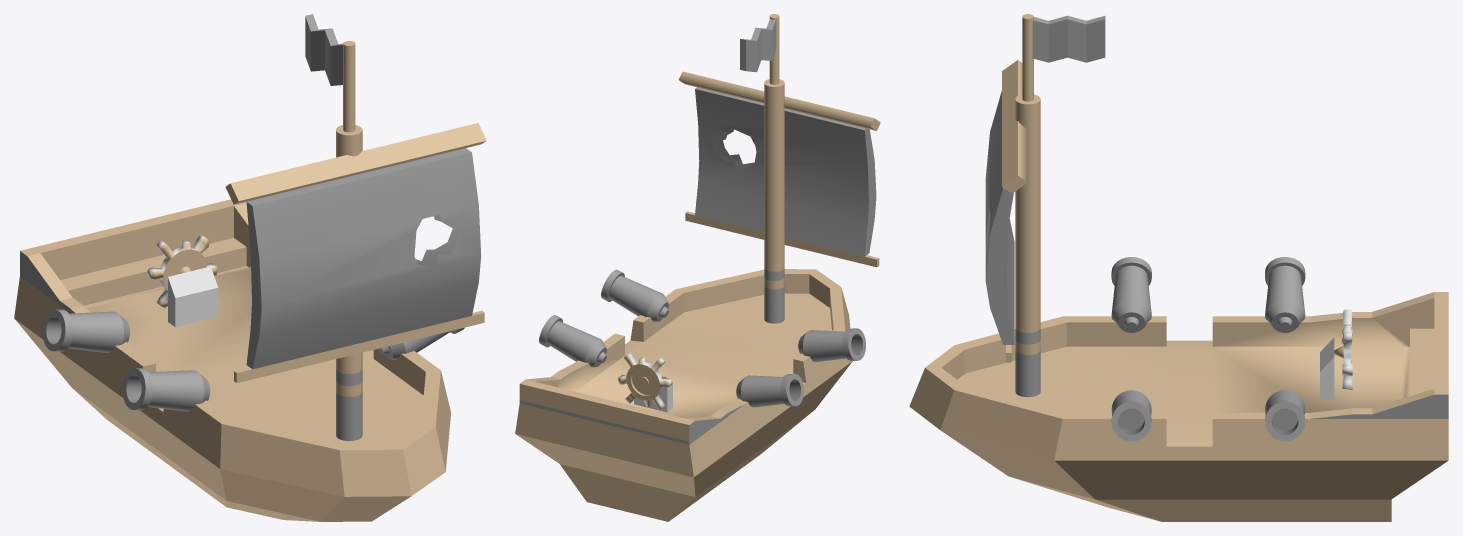
Rendered from ship-kenney.fbx.
3 renders of one model, left to right at view 1: azimuth 30°, elevation 25°; view 2: azimuth 150°, elevation 25°; view 3: azimuth 270°, elevation 25°, orthographic. The views are drawn at different scales.
Parts seen in each view (by area): view 1: Hull, Sail, Sail.002, Mast, Cannon_RR, Cannon_FR, Sail.001, WheelBase, Wheel, Flag, Cannon_FL; view 2: Hull, Sail, Mast, Sail.002, Cannon_RL, Cannon_FL, Cannon_RR, Cannon_FR, Wheel, Sail.001, Flag, WheelBase; view 3: Hull, Mast, Sail, Flag, Sail.002, Cannon_RR, Cannon_FR, Cannon_FL, Cannon_RL, Wheel, WheelBase.
Boxes of the visible parts, <box> form: Hull: <box>14,199,450,521</box>; Sail: <box>246,148,481,369</box>; Sail.002: <box>225,123,486,204</box>; Mast: <box>336,41,362,440</box>; Cannon_RR: <box>42,309,130,352</box>; Cannon_FR: <box>122,368,210,411</box>; Sail.001: <box>234,310,484,382</box>; WheelBase: <box>168,266,218,327</box>; Wheel: <box>147,234,217,308</box>; Flag: <box>305,14,342,85</box>; Cannon_FL: <box>378,327,464,359</box>; Hull: <box>515,269,852,521</box>; Sail: <box>695,87,876,256</box>; Mast: <box>764,14,784,323</box>; Sail.002: <box>678,71,880,130</box>; Cannon_RL: <box>539,315,606,367</box>; Cannon_FL: <box>601,269,668,321</box>; Cannon_RR: <box>736,373,803,407</box>; Cannon_FR: <box>798,328,865,361</box>; Wheel: <box>618,353,672,409</box>; Sail.001: <box>685,211,879,267</box>; Flag: <box>740,19,776,72</box>; WheelBase: <box>634,376,672,412</box>; Hull: <box>909,292,1448,521</box>; Mast: <box>1015,14,1040,397</box>; Sail: <box>985,91,1014,344</box>; Flag: <box>1032,15,1105,62</box>; Sail.002: <box>1002,60,1027,193</box>; Cannon_RR: <box>1265,257,1305,332</box>; Cannon_FR: <box>1111,257,1151,332</box>; Cannon_FL: <box>1111,390,1151,441</box>; Cannon_RL: <box>1265,390,1305,441</box>; Wheel: <box>1334,309,1352,389</box>; WheelBase: <box>1320,337,1334,399</box>.
Size of what is drawn, in the model's own units: 498 by 726 by 739.
